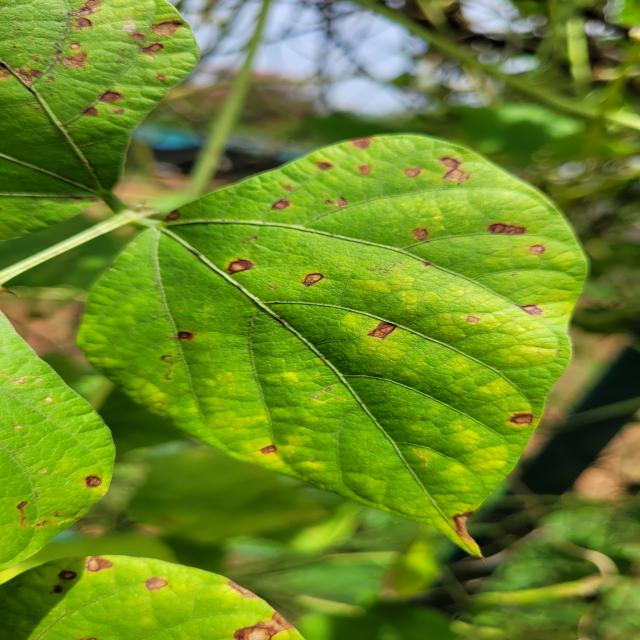Dolicos bean_cercospora leaf spot: (85, 127, 585, 562), (0, 0, 204, 186), (0, 552, 314, 640)
